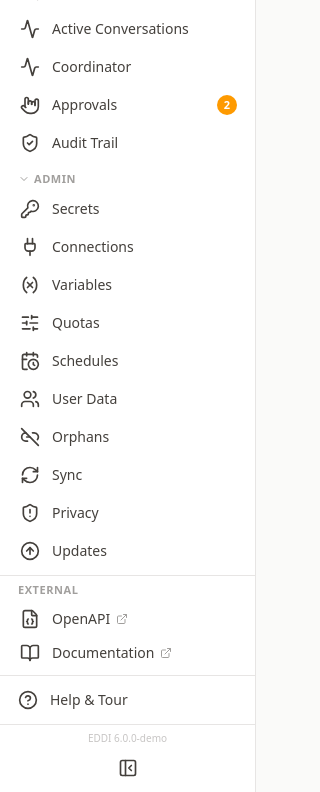
Test: Sidebar › closes help menu on second click
The width and height of the screenshot is (320, 792).
(page scrolled)
Click the button with test id "sidebar-help".
click(128, 700)  # box [6, 682, 249, 718]
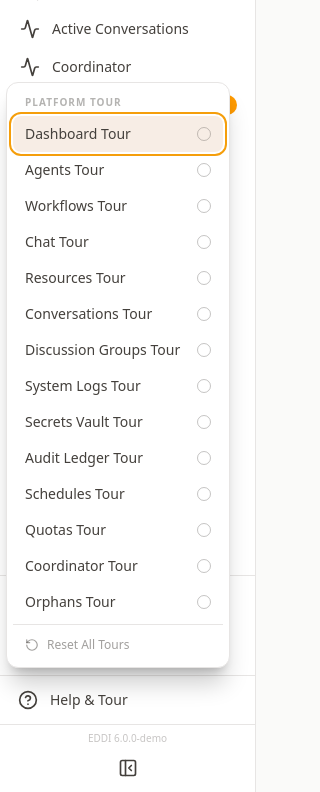
Check: the menu with test id "help-menu-dropdown" is shown, box [6, 82, 230, 668]
Click the button with test id "sidebar-help".
click(128, 700)  # box [6, 682, 249, 718]
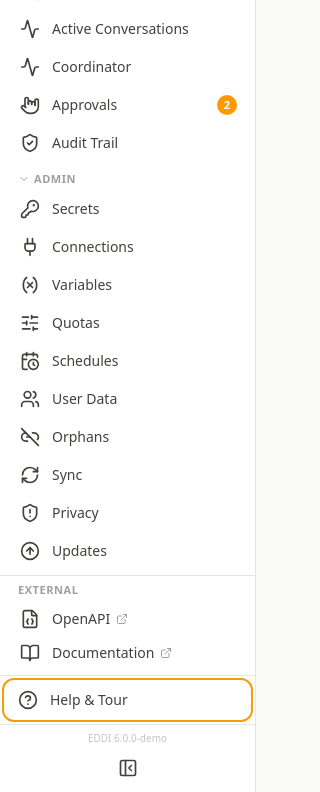
Check: the menu with test id "help-menu-dropdown" is gone
